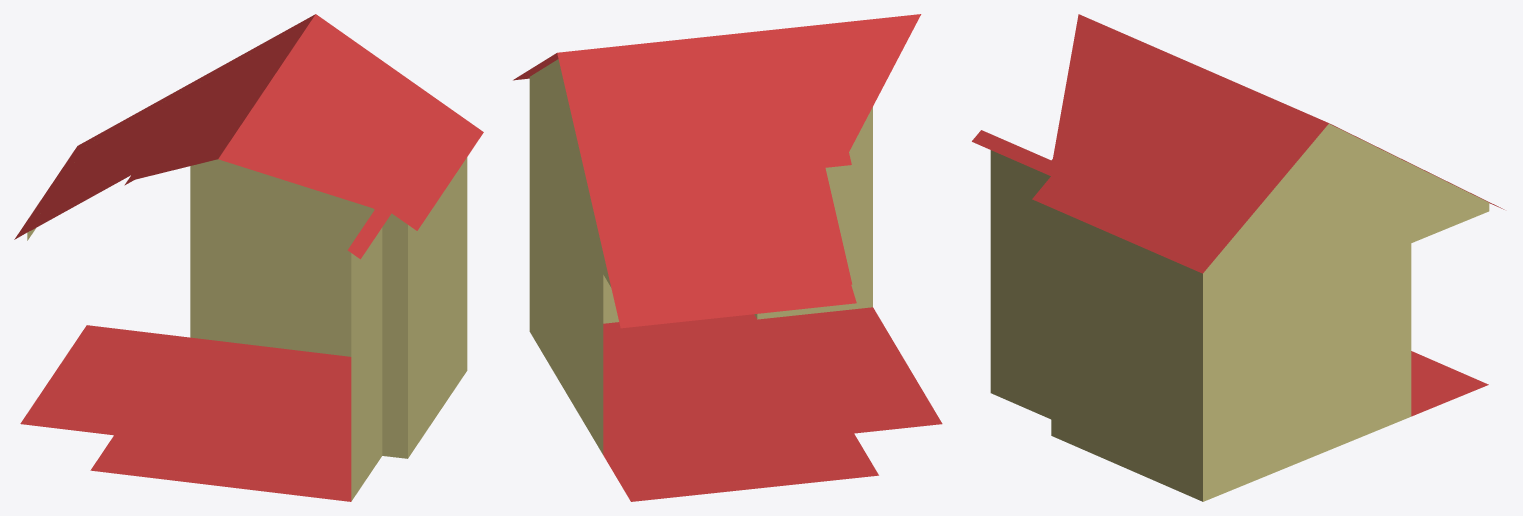
3 renders of one model, left to right at view 1: azimuth 30°, elevation 25°; view 2: azimuth 150°, elevation 25°; view 3: azimuth 270°, elevation 25°, orthographic. The views are drawn at different scales.
Size of the model in its own units: 17.28 by 19.63 by 13.52.
